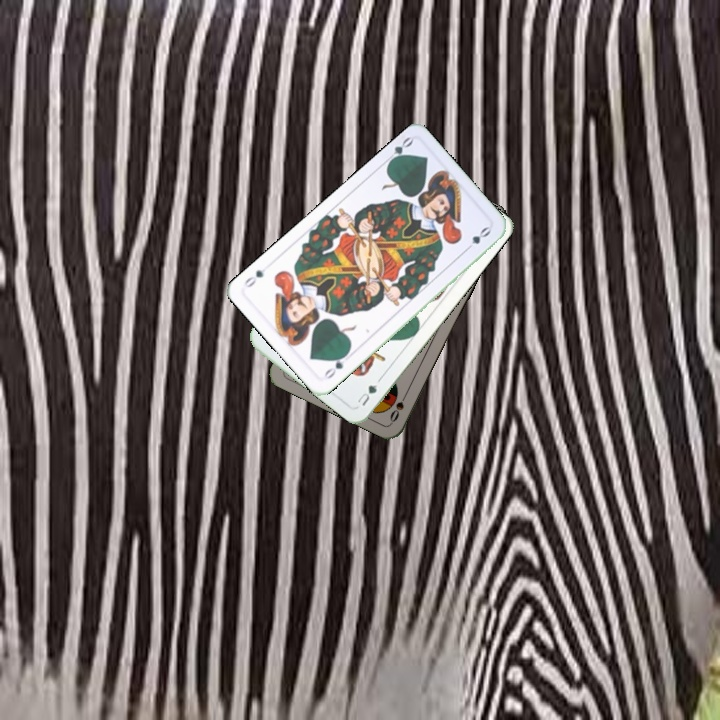GO: (381, 133, 415, 167), (319, 349, 351, 382)
GU: (353, 380, 380, 409)
SO: (386, 387, 411, 425)
